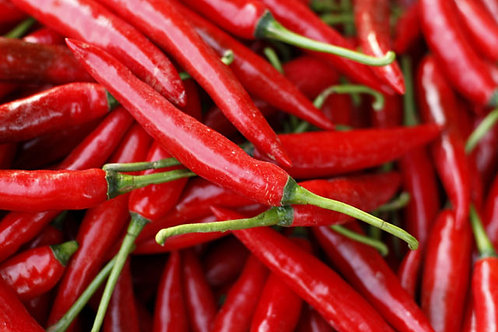Cabai: (106, 34, 377, 291)
